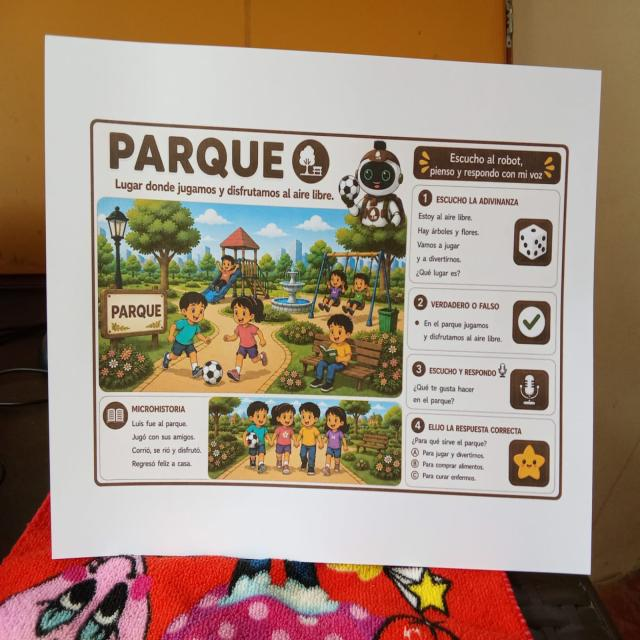parque: (86, 112, 573, 507)
